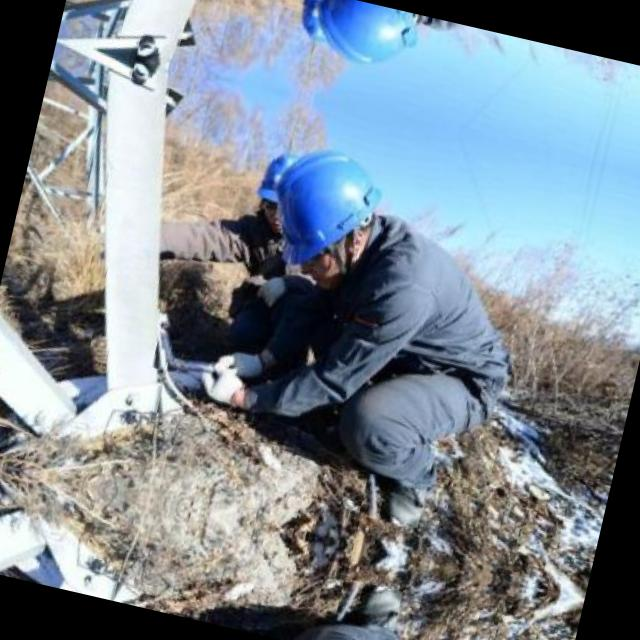helmet: (256, 132, 406, 298), (304, 0, 439, 86), (242, 142, 306, 240), (285, 0, 342, 49)
